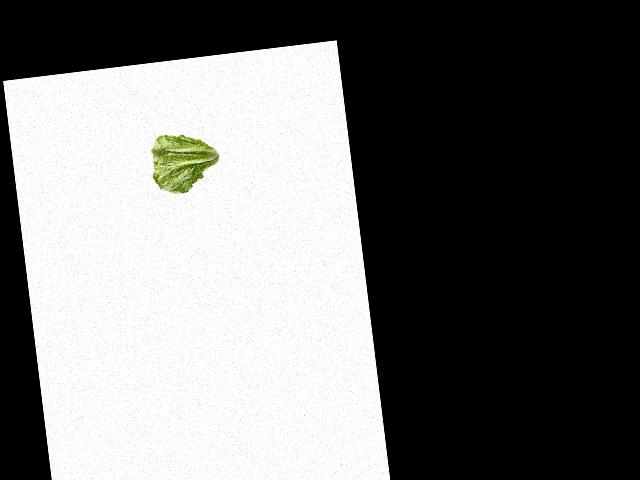lettuce: (147, 130, 226, 199)
